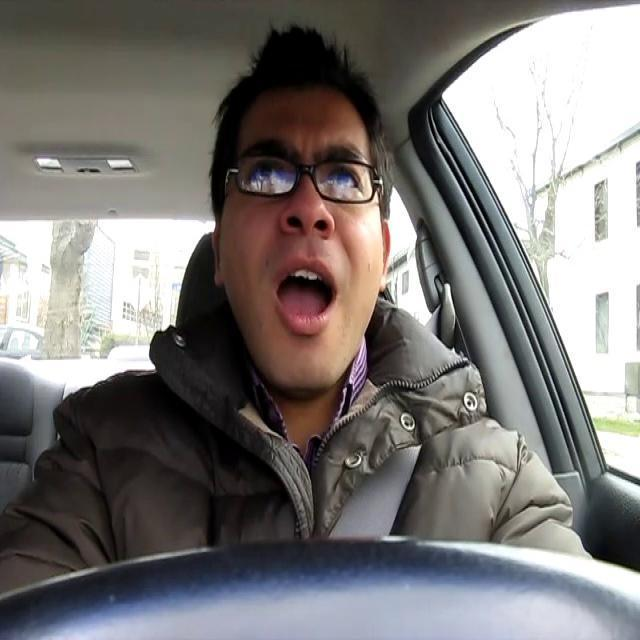open-mouth: (271, 256, 340, 336)
